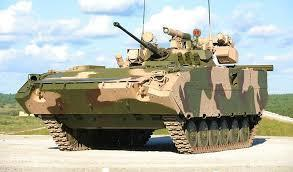tank: (16, 20, 280, 161)
